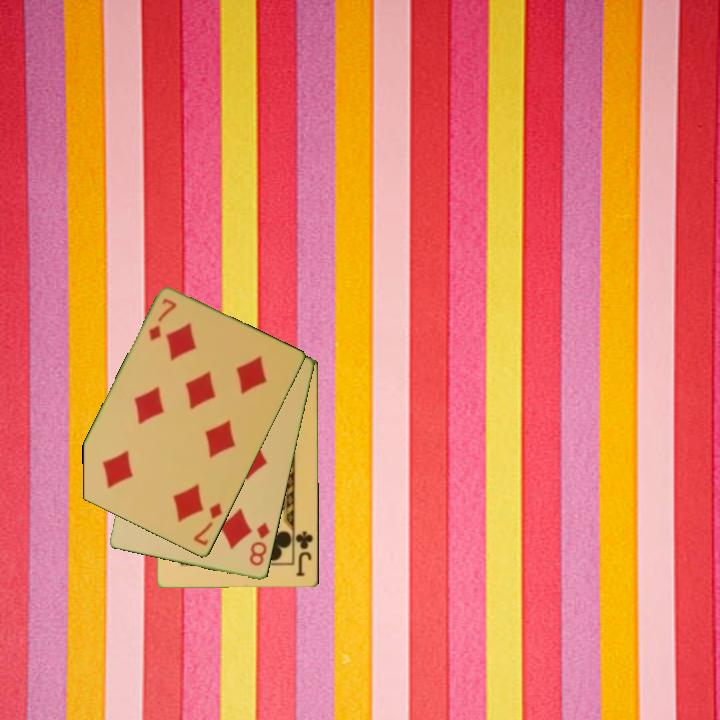7d: (190, 499, 225, 549), (145, 295, 179, 344)
8d: (246, 519, 273, 569)
Jc: (292, 528, 316, 579)
